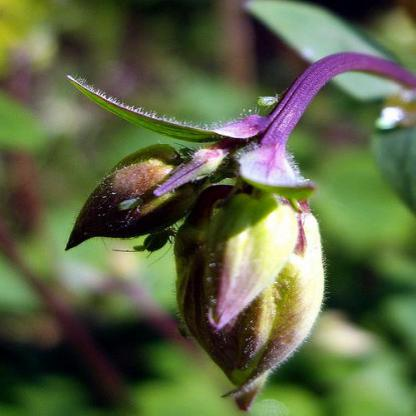aphid: (132, 227, 184, 255), (250, 88, 284, 114), (109, 192, 144, 216), (174, 138, 195, 157)
